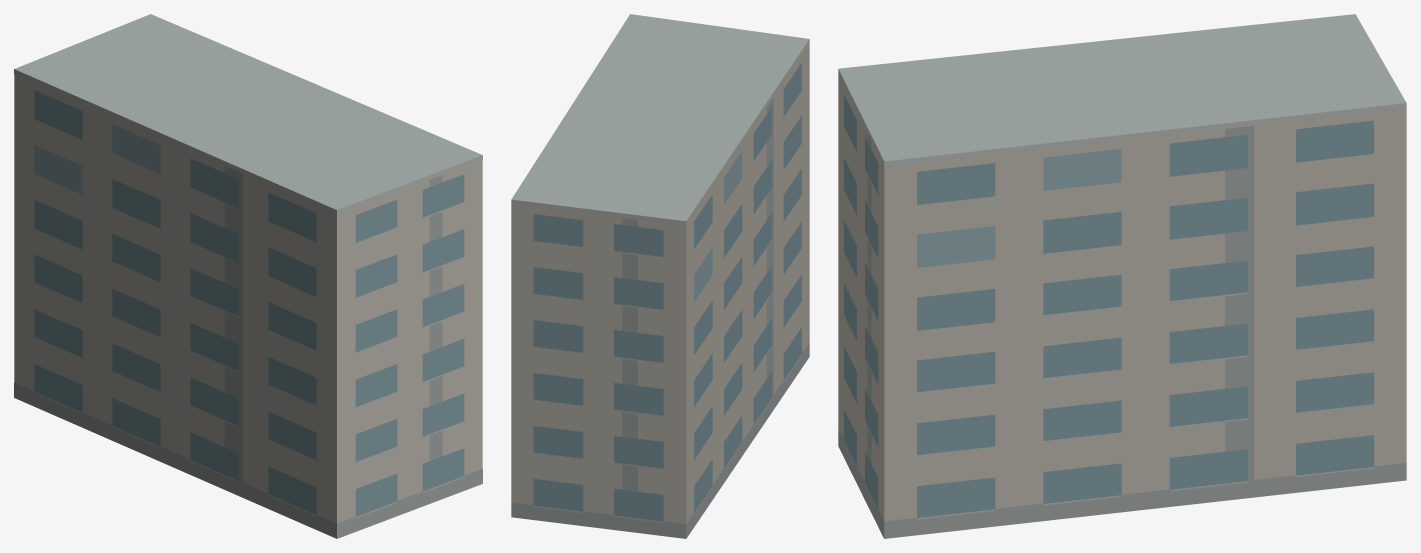
File: survey-upis-32898570.glb
3 views of the same model, side by side, from view 1: azimuth 30°, elevation 25°; view 2: azimuth 150°, elevation 25°; view 3: azimuth 270°, elevation 25° (orthographic). The views are drawn at different scales.
Parts seen in each view (by area): view 1: survey-upis-32898570.tmp; view 2: survey-upis-32898570.tmp; view 3: survey-upis-32898570.tmp.
Part boxes in pixels (x1=…): survey-upis-32898570.tmp: x1=14, y1=14, x2=482, y2=538; survey-upis-32898570.tmp: x1=511, y1=14, x2=809, y2=538; survey-upis-32898570.tmp: x1=838, y1=14, x2=1406, y2=538.
Bounding box in the file's own units: 13.84 × 16.5 × 22.53.
